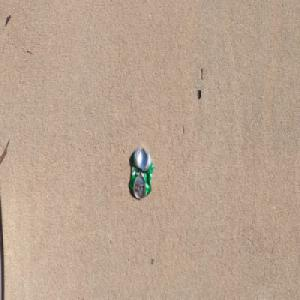SodaCan: (128, 146, 154, 200)
